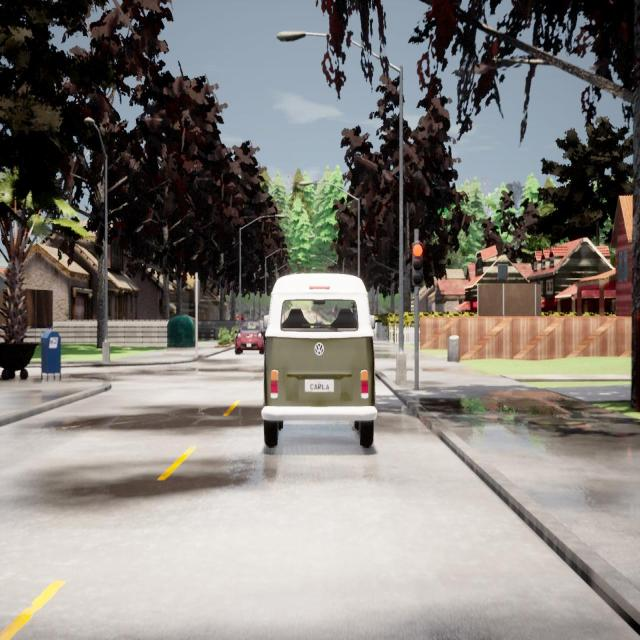Vehicle: (262, 273, 376, 447), (234, 321, 263, 354)
traffic_light: (412, 243, 424, 287), (194, 280, 200, 302), (332, 309, 334, 316)
